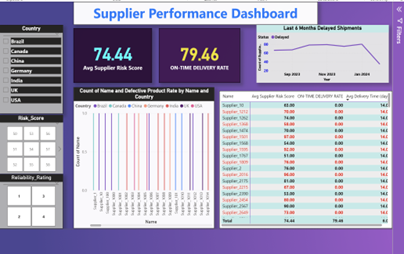

Layout of this report page (visuals, bound fields, positions):
{"tool":"powerbi","page":{"name":"Supplier Performance Dashboard","canvas":[1280,720],"ordinal":2},"visuals":[{"type":"pivotTable","fields":{"Rows":["Suppliers.Name"],"Values":["Suppliers.Avg Supplier Risk Score","Shipments.ON-TIME DELIVERY RATE","Suppliers.Avg Delivery Time (days)"]},"box":[717.1,283.6,562.8,436.4],"z":0},{"type":"slicer","title":"Risk_Score","fields":{"Values":["Suppliers.Risk_Score"]},"box":[0,360,208.7,186.6],"z":1000},{"type":"textbox","box":[242.4,0,794.9,73.5],"z":2000},{"type":"card","fields":{"Values":["Suppliers.Avg Supplier Risk Score"]},"box":[242.4,83.8,255.7,173.4],"z":3000},{"type":"card","fields":{"Values":["Shipments.ON-TIME DELIVERY RATE"]},"box":[520.2,83.8,264.5,173.4],"z":4000},{"type":"slicer","title":"Reliability_Rating","fields":{"Values":["Suppliers.Reliability_Rating"]},"box":[0,546.6,208.7,173.4],"z":5000},{"type":"slicer","title":"Country","fields":{"Values":["Suppliers.Country"]},"box":[0,73.5,208.7,282.1],"z":6000},{"type":"clusteredColumnChart","fields":{"Category":["Suppliers.Name"],"Series":["Suppliers.Country"],"Y":["CountNonNull(Suppliers.Name)"]},"box":[242.4,271.8,458.4,448.2],"z":7000},{"type":"lineChart","title":"Last 6 Months Delayed Shipments","fields":{"Series":["Shipments.Status"],"Y":["CountNonNull(Orders.Supplier_ID)"],"Category":["Orders.Order_Date.Variation.Date Hierarchy.Year","Orders.Order_Date.Variation.Date Hierarchy.Month"]},"box":[837.6,73.5,430.5,183.7],"z":8000}]}

Visuals, with their boxes in screenshot pixels (x1, y1, x2, y2):
pivotTable - Suppliers.Name x Suppliers.Avg Supplier Risk Score: bbox=(219, 89, 394, 225)
"Risk_Score" slicer: bbox=(0, 113, 61, 171)
textbox: bbox=(71, 1, 319, 24)
card - Suppliers.Avg Supplier Risk Score: bbox=(71, 27, 151, 81)
card - Shipments.ON-TIME DELIVERY RATE: bbox=(158, 27, 240, 81)
"Reliability_Rating" slicer: bbox=(0, 171, 61, 225)
"Country" slicer: bbox=(0, 24, 61, 112)
clusteredColumnChart - Suppliers.Name x Suppliers.Country: bbox=(71, 86, 214, 225)
"Last 6 Months Delayed Shipments" lineChart: bbox=(257, 24, 390, 81)
